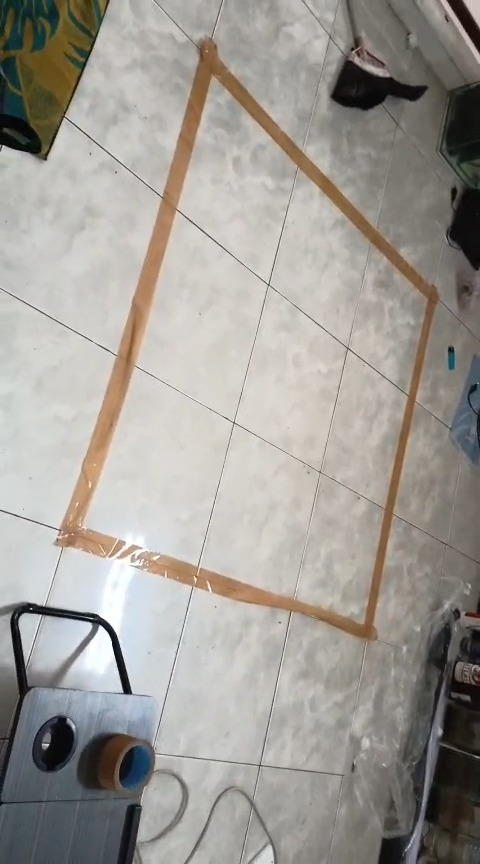floor marking: (56, 38, 437, 639)
